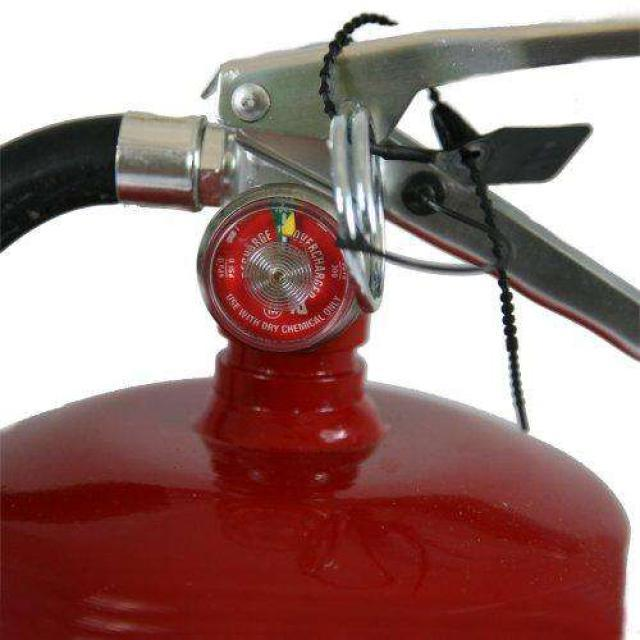pressure gauge: (199, 185, 357, 351)
